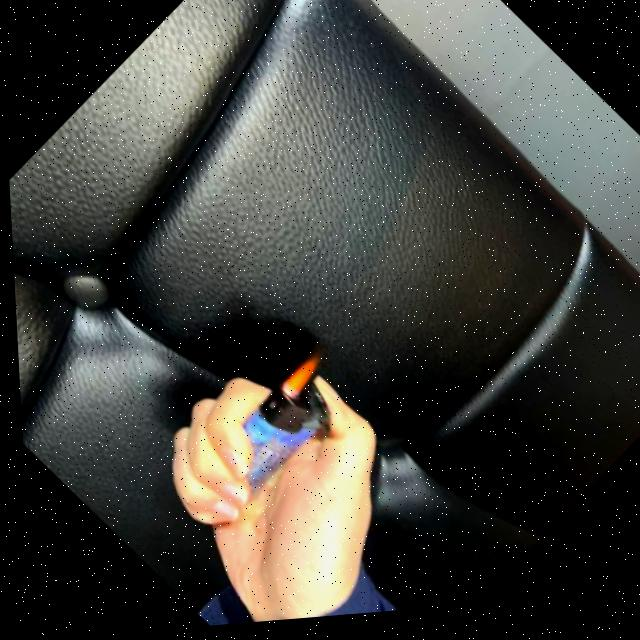Fire: (271, 351, 327, 406)
